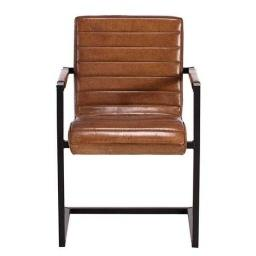Chair: (56, 20, 200, 250)
